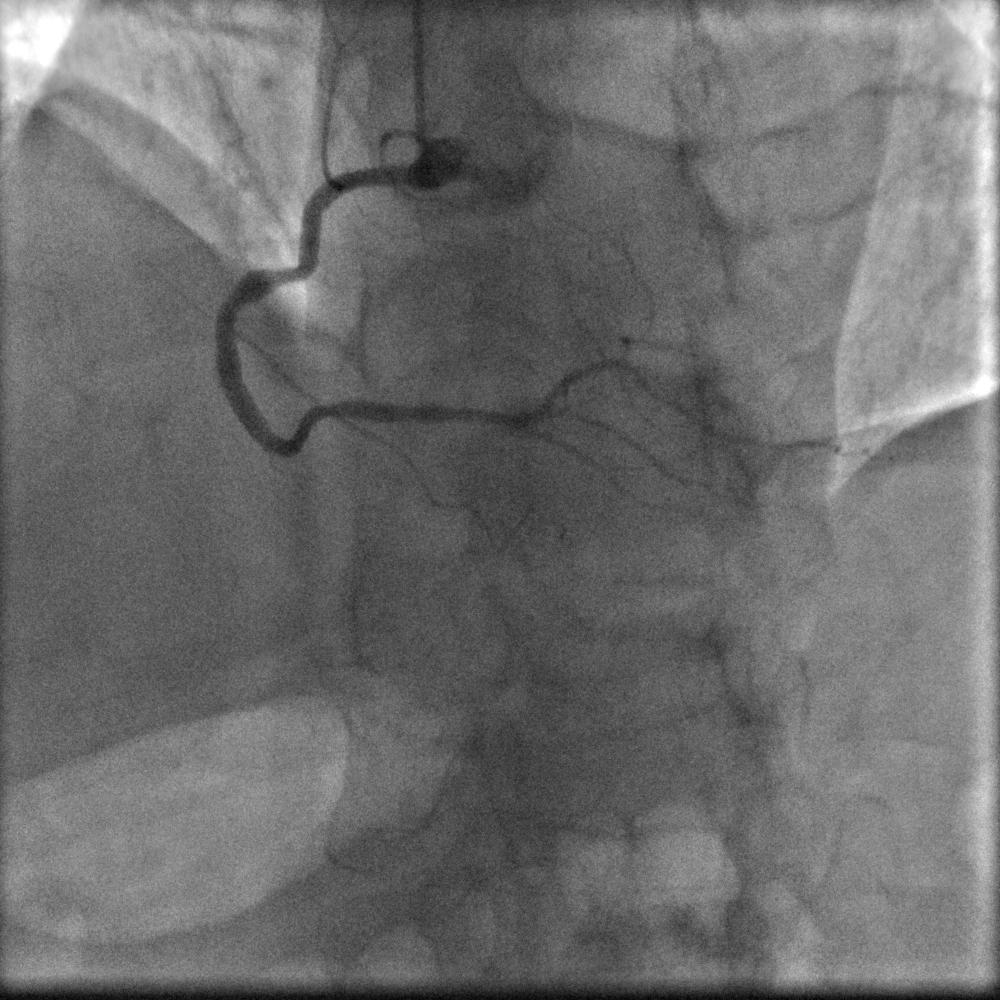Stenosis: (221, 286, 243, 316)
